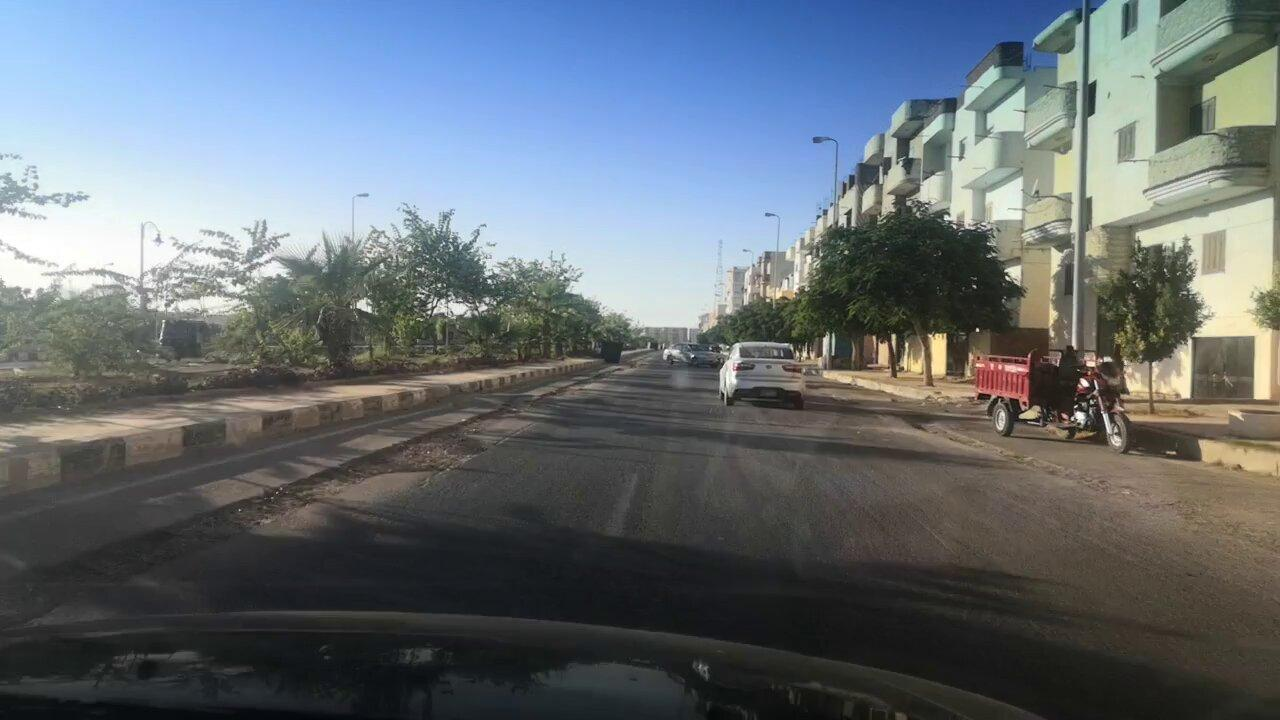Pothole: (23, 392, 512, 602)
